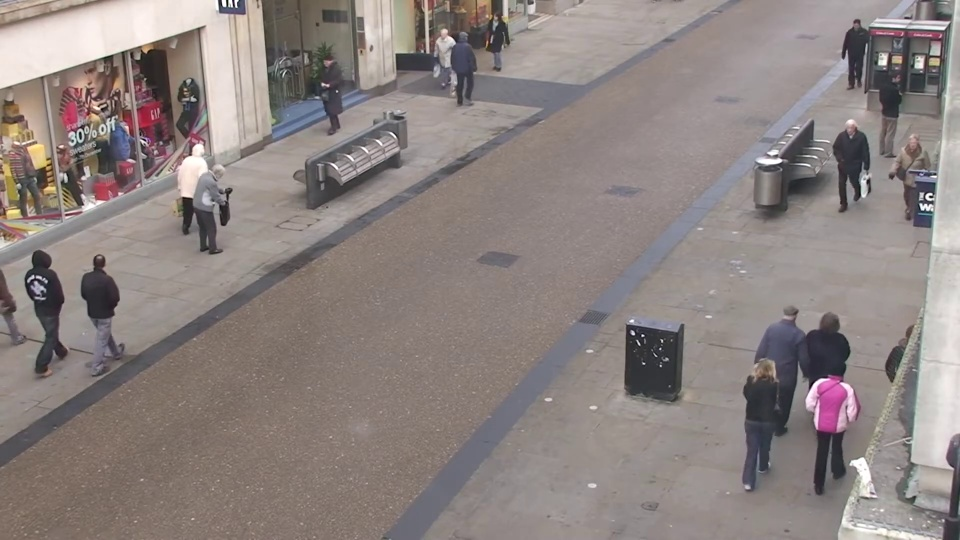pedestrian: (809, 343, 868, 500), (737, 343, 793, 499), (799, 299, 853, 444), (24, 238, 84, 364), (763, 293, 815, 436), (88, 244, 143, 371), (885, 131, 931, 234), (201, 158, 243, 263), (187, 136, 227, 235), (828, 116, 867, 213), (872, 67, 911, 154), (837, 18, 869, 91), (312, 54, 341, 131), (430, 28, 456, 98), (457, 29, 482, 100), (485, 11, 508, 77)
